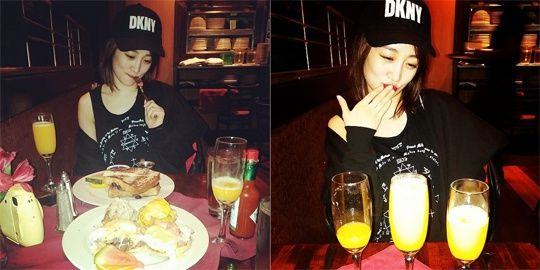face: (364, 41, 419, 97), (115, 46, 151, 85)
